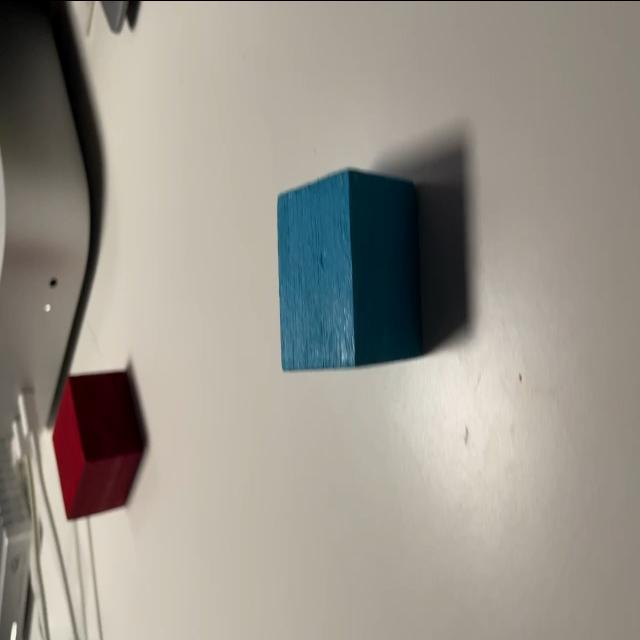blue_block: (276, 162, 431, 377)
red_block: (52, 359, 146, 521)
